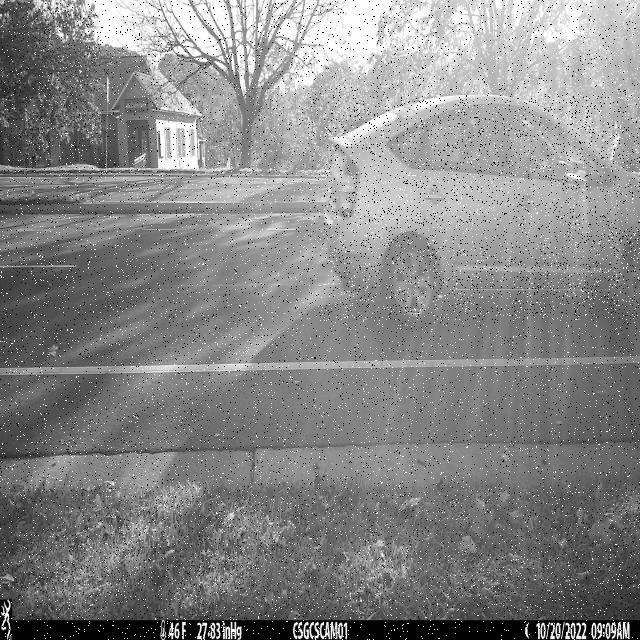Hatchback: (324, 95, 640, 320)
